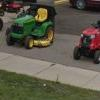Tractor: (4, 1, 70, 60)
